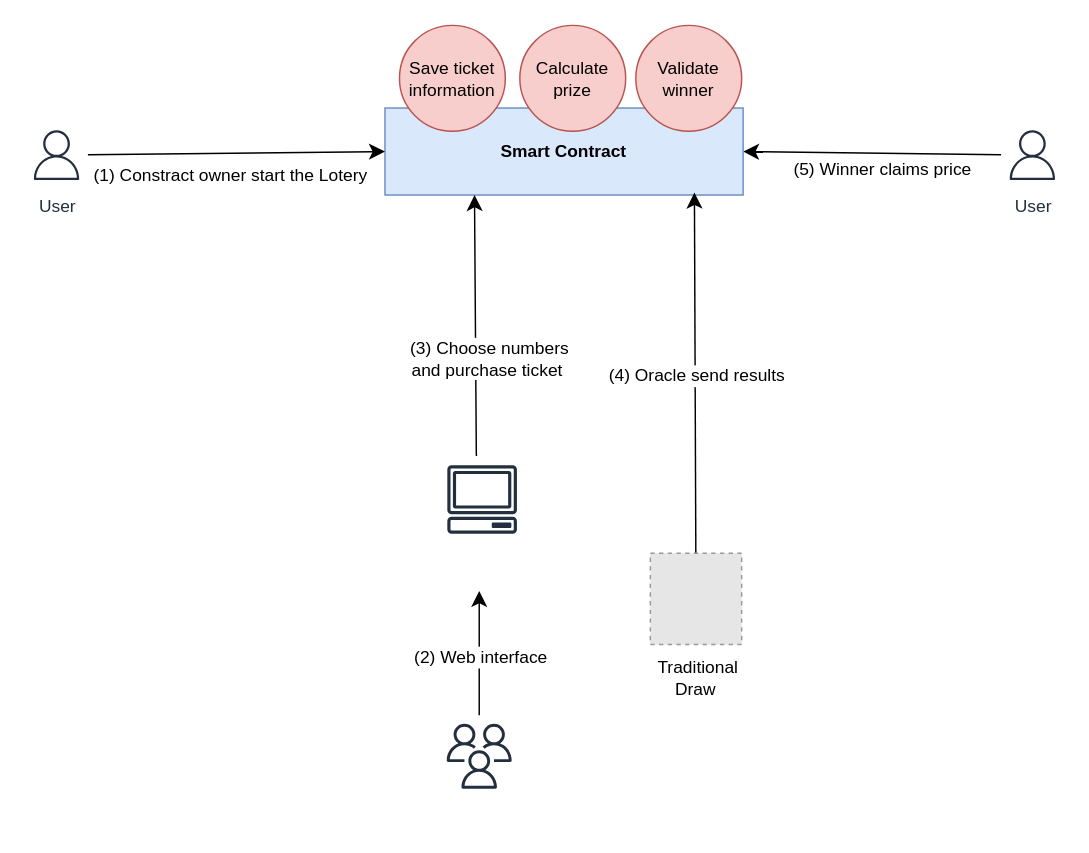
The diagram is 1089 pixels wide and 853 high, and some of its shapes have lost their labels. Grey dashed boxes stand in for pictures. Each missing label, with the box of its shape:
Client: (437, 455, 526, 543)
Users: (437, 714, 520, 797)
